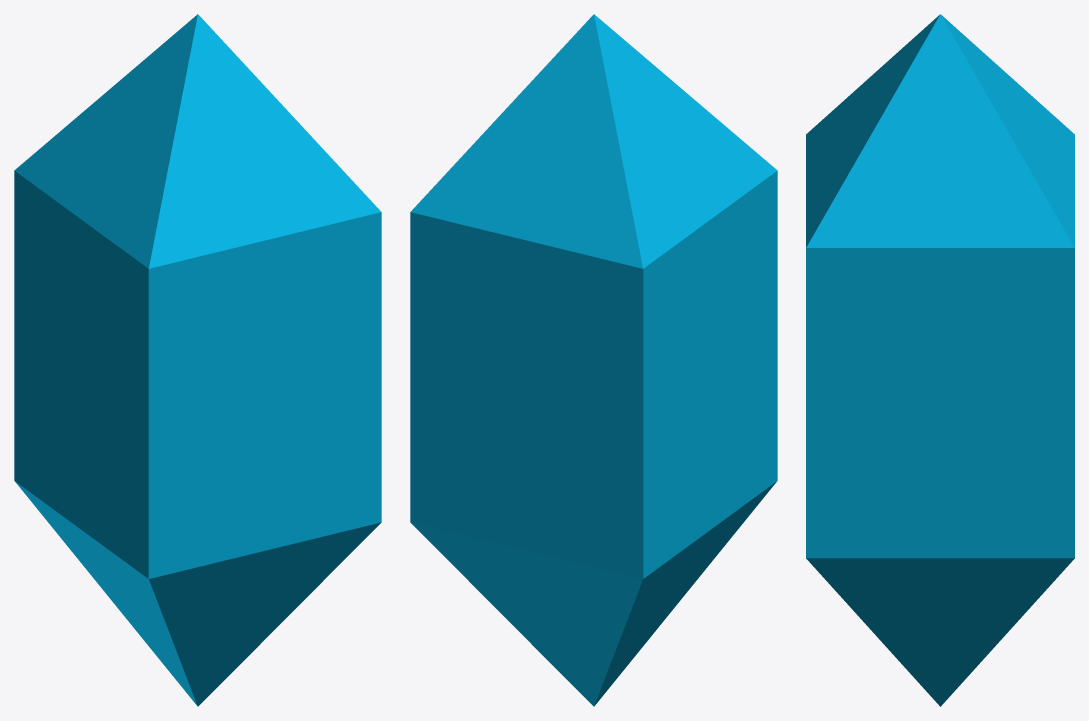
The model's file is player_blue.fbx.
The picture shows the model from 3 angles, left to right: view 1: azimuth 30°, elevation 25°; view 2: azimuth 150°, elevation 25°; view 3: azimuth 270°, elevation 25°; orthographic projection.
Parts seen in each view (by area): view 1: pCube1; view 2: pCube1; view 3: pCube1.
Part boxes in pixels (x1=…): pCube1: x1=14, y1=14, x2=381, y2=706; pCube1: x1=410, y1=14, x2=777, y2=706; pCube1: x1=806, y1=14, x2=1074, y2=706.
Size of the model in its own units: 1 by 2.84 by 1.
